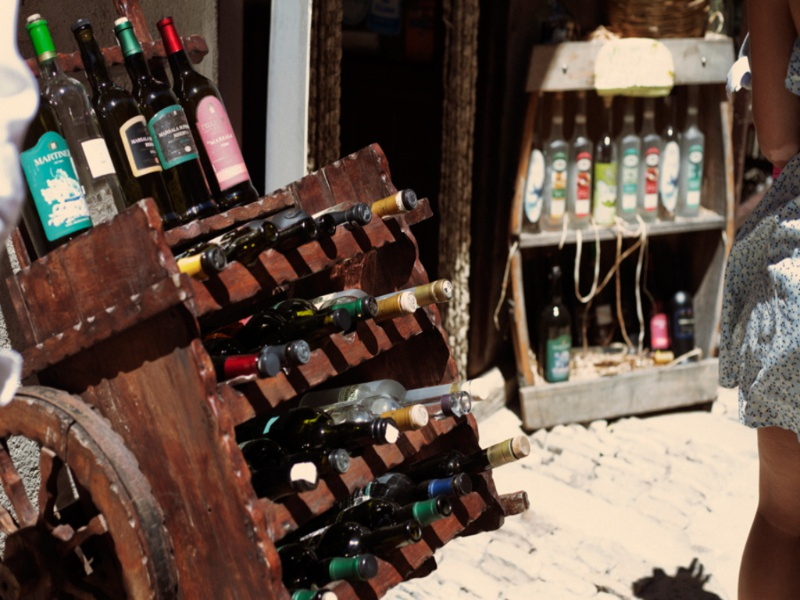wine: (169, 189, 538, 600), (524, 36, 709, 366), (17, 8, 261, 240)
